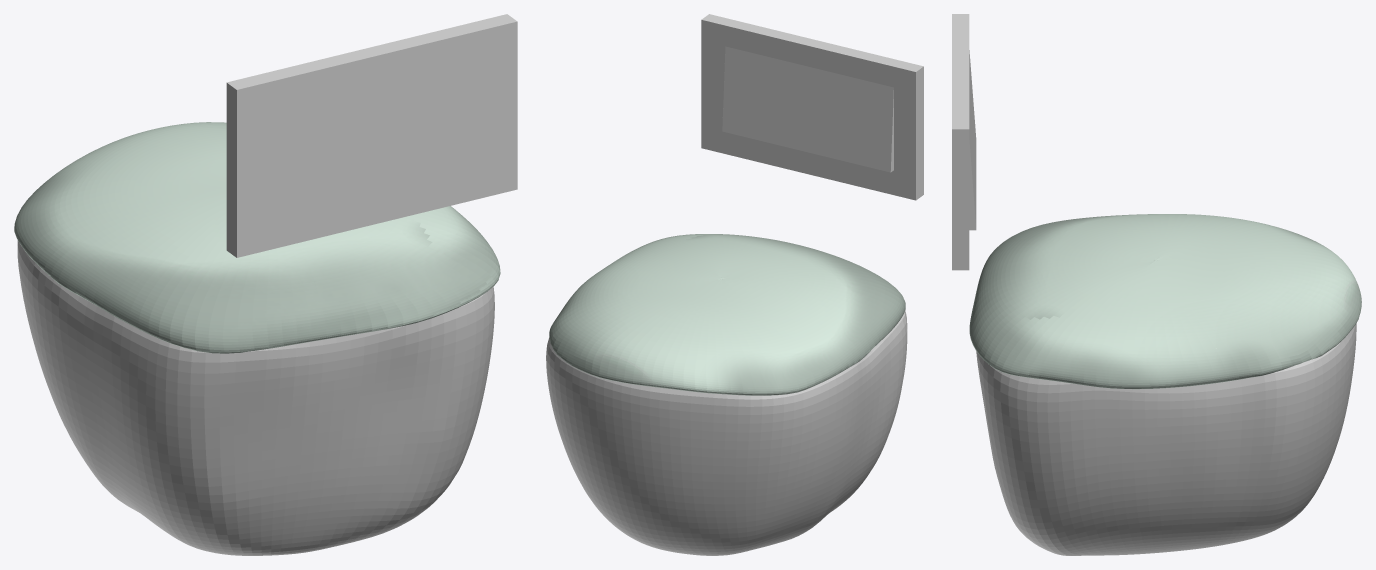
File: vater.fbx
3 views of the same model, side by side, from view 1: azimuth 30°, elevation 25°; view 2: azimuth 150°, elevation 25°; view 3: azimuth 270°, elevation 25° (orthographic). The views are drawn at different scales.
Visible parts, largest first — view 1: Sphere.001, Sphere.002, Cube; view 2: Sphere.001, Sphere.002, Cube; view 3: Sphere.002, Sphere.001, Cube.
Part boxes in pixels (<box>): Sphere.001: <box>17,240,494,555</box>; Sphere.002: <box>14,122,500,353</box>; Cube: <box>226,14,517,257</box>; Sphere.001: <box>546,310,907,555</box>; Sphere.002: <box>549,234,905,395</box>; Cube: <box>701,14,923,200</box>; Sphere.002: <box>969,214,1361,389</box>; Sphere.001: <box>976,323,1356,555</box>; Cube: <box>952,14,976,270</box>.
Bounding box in the file's own units: 184 × 257 × 208.
